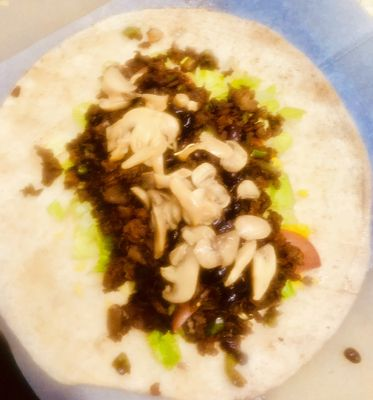sandwich: (5, 3, 344, 397)
